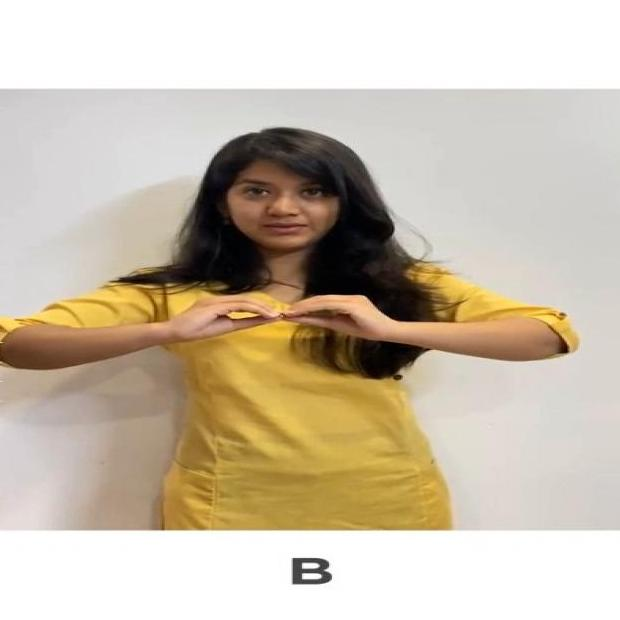A: (143, 290, 410, 348)
